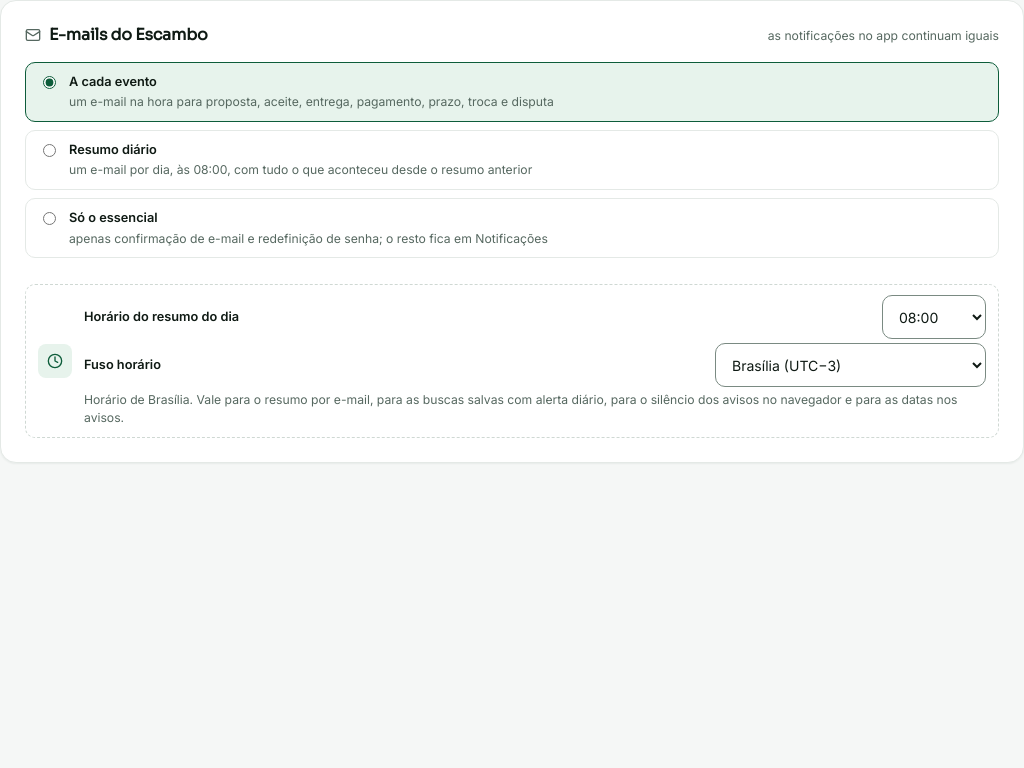
Test: cartão de e-mails: gravar a frequência › só o essencial avisa que as novidades ficam em Notificações
Click the radio button labelled "Só o essencial".
click(50, 218)  # box [43, 212, 56, 225]
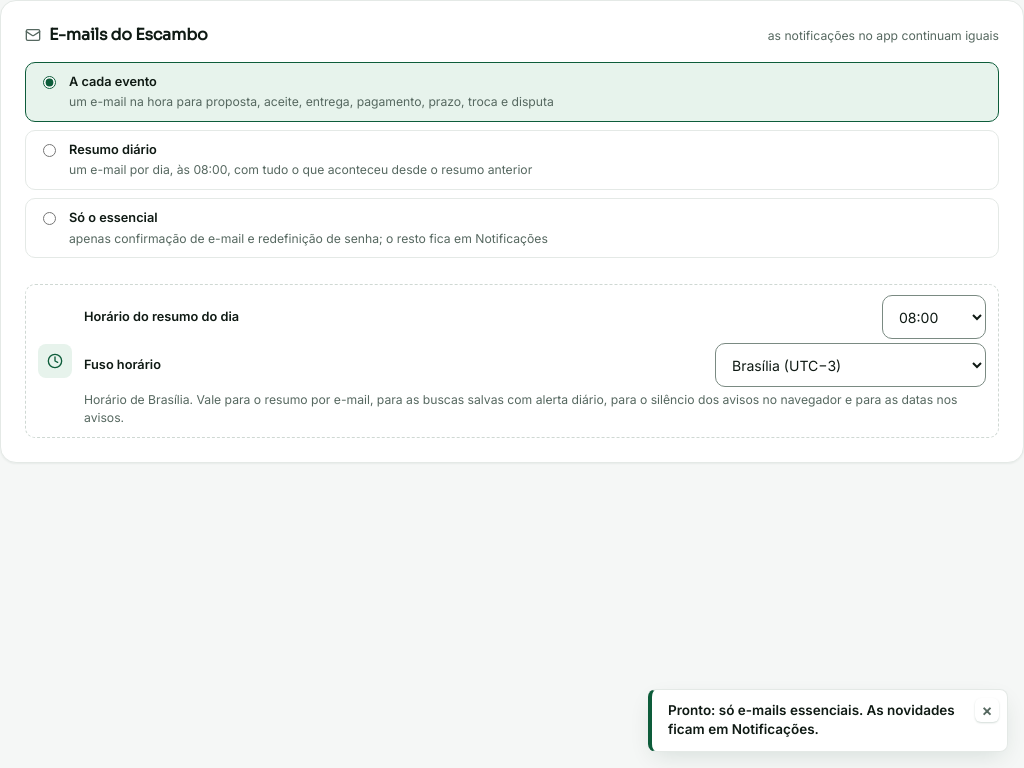
expect the text "Pronto: só e-mails essenciais. As novidades ficam em Notificações." is shown: met, box [668, 701, 967, 740]
